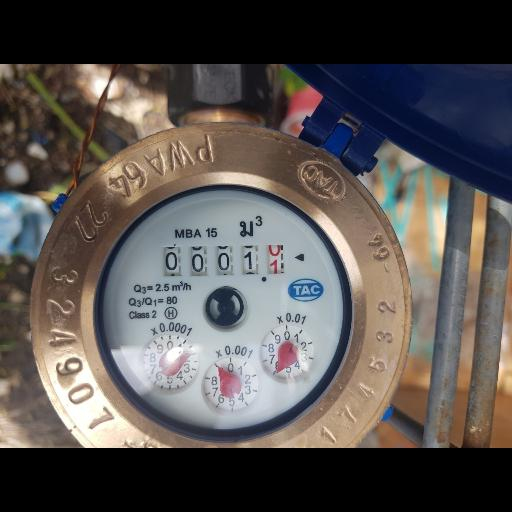0: (189, 246, 209, 276), (164, 247, 183, 277), (216, 246, 235, 276), (268, 245, 285, 275)
1: (241, 245, 259, 275)
border_water_meter_number: (159, 241, 288, 279)
